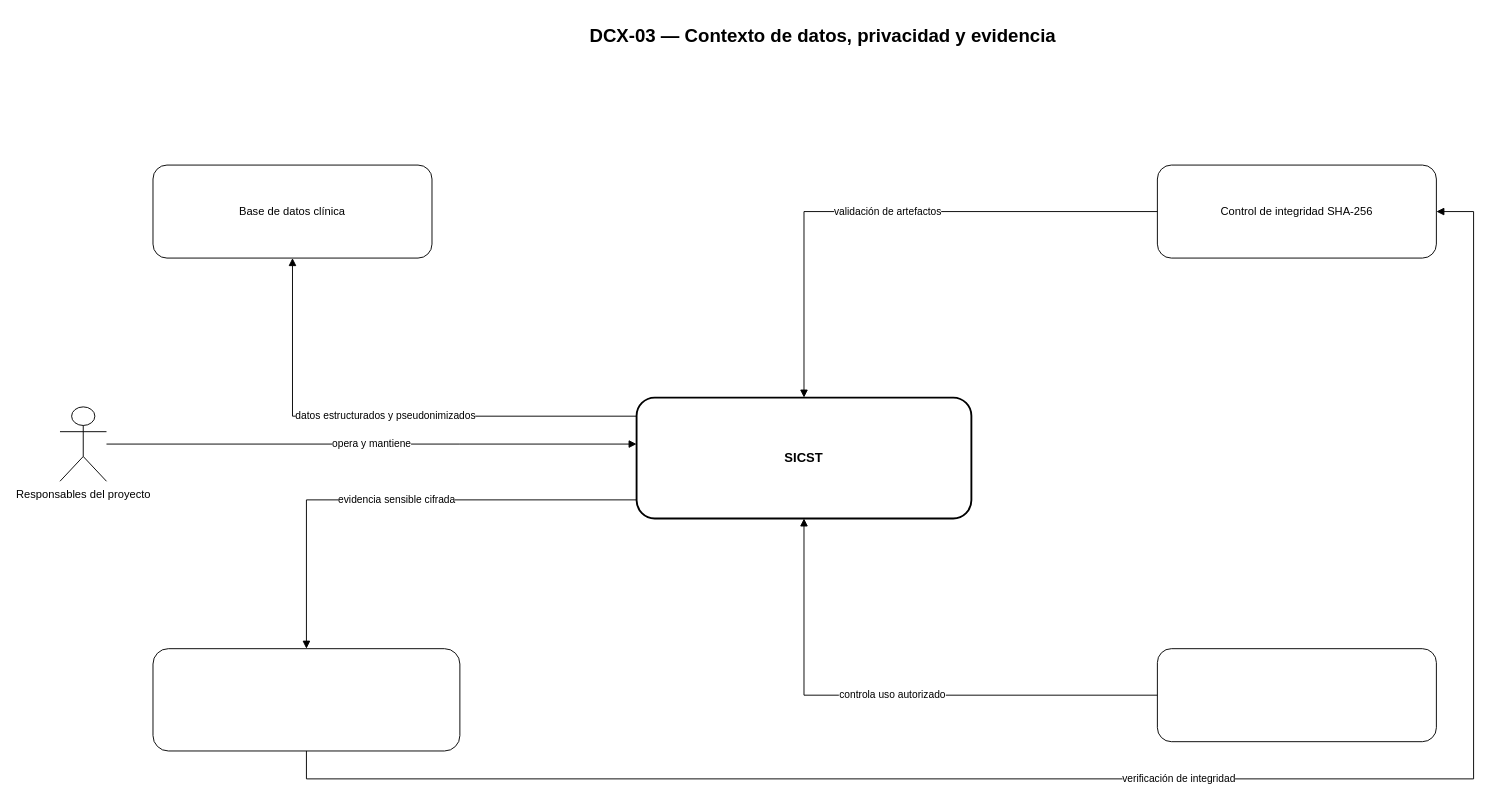
Image size: 1497x803. Some labels were removed from this diagram. Here are the shapes that lost their labels. From the top down, the box of each, then its label:
(152, 648, 460, 751): Repositorio de evidencias cifradas
(1156, 648, 1436, 742): Consentimientos / autorización
